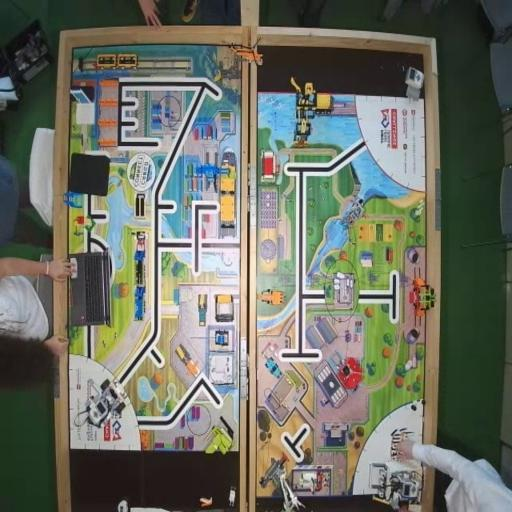lego_robot: (368, 462, 423, 512), (84, 377, 126, 429)
